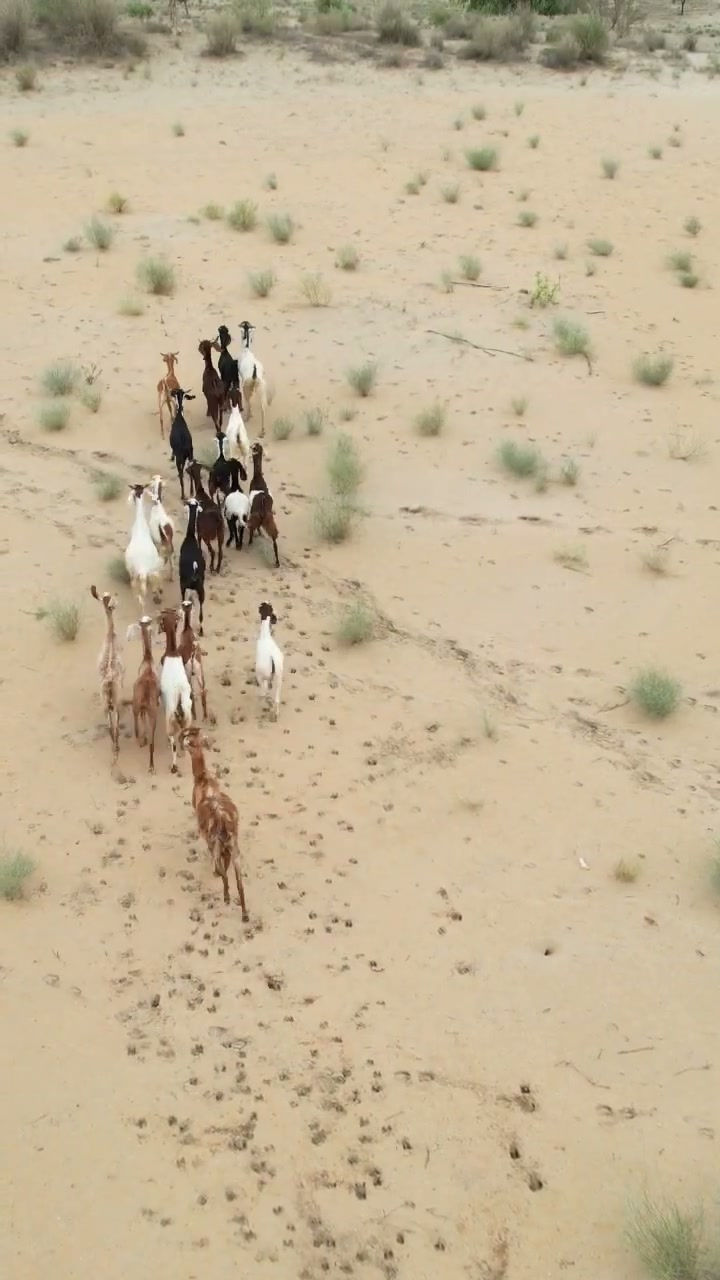animal_footprint: (100, 710, 415, 1277)
